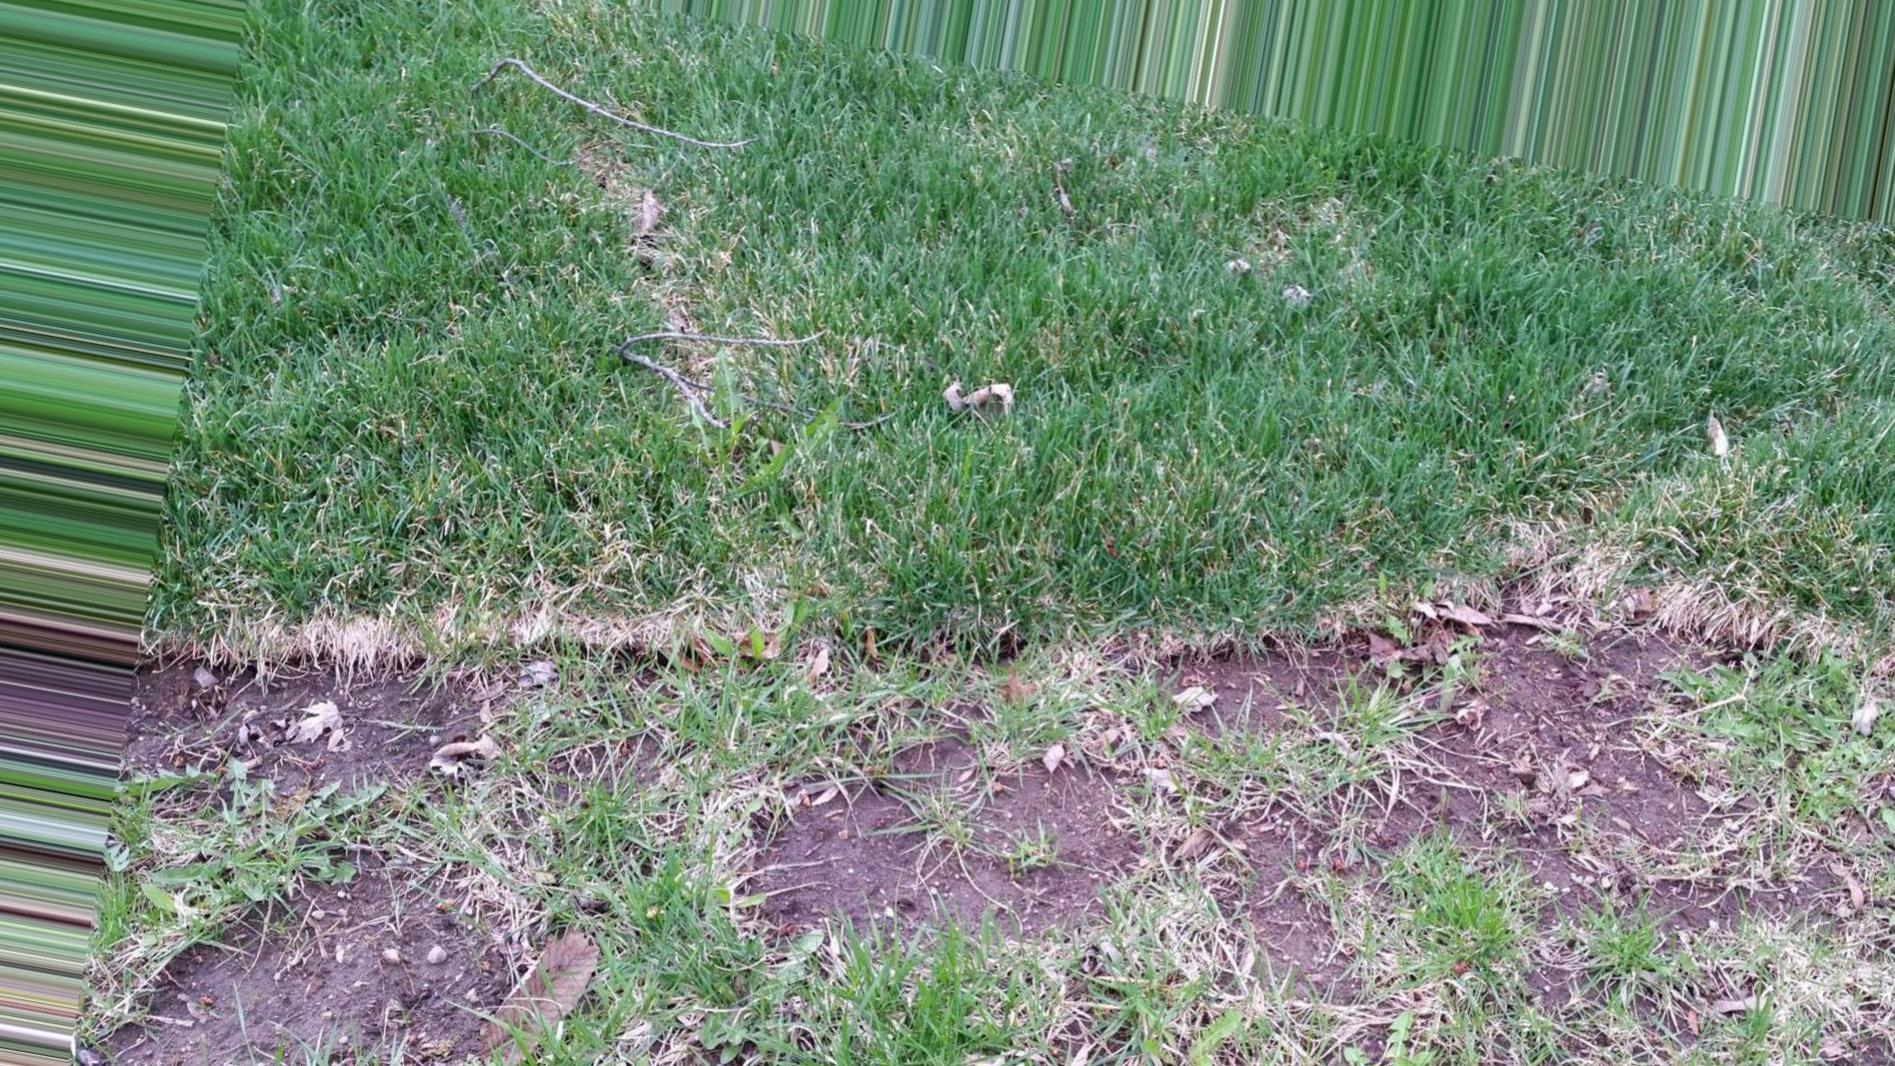patch: (810, 806, 1158, 918), (185, 922, 457, 1049), (1495, 676, 1665, 823), (223, 696, 498, 769), (1171, 678, 1352, 718)
